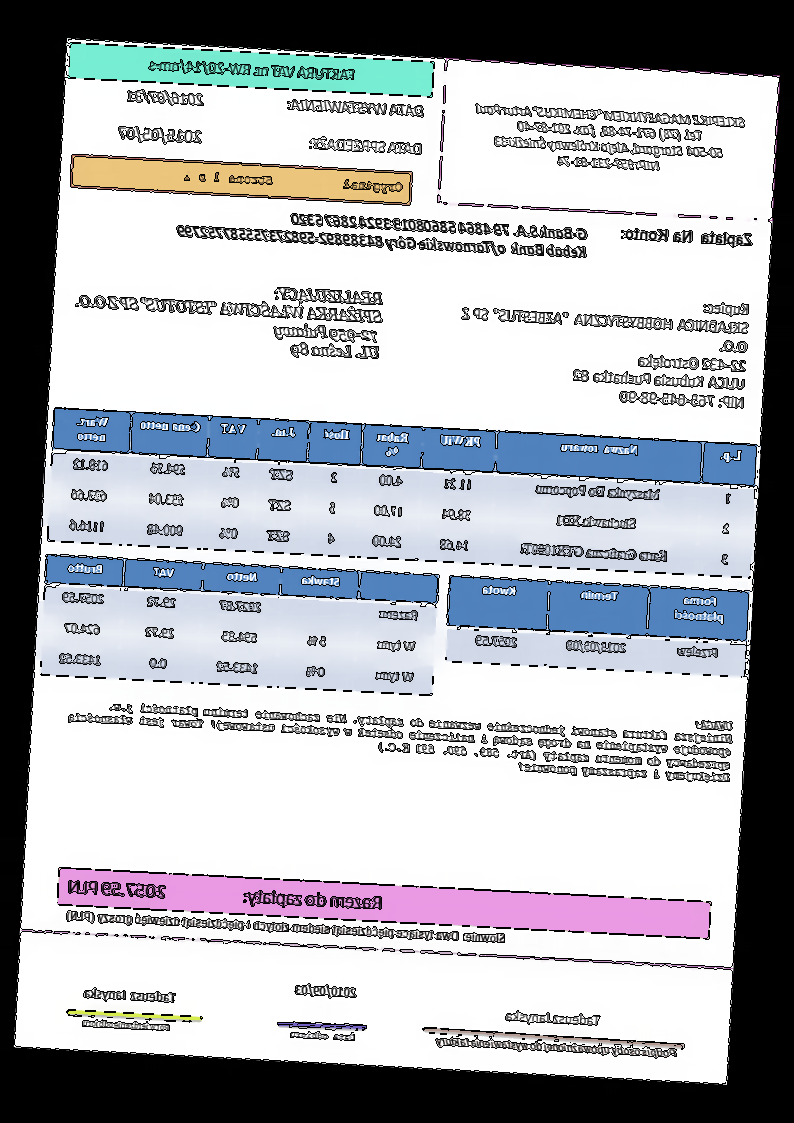Table: (46, 406, 759, 580), (39, 553, 441, 697), (444, 574, 752, 679)
TextBox: (62, 682, 735, 786), (455, 285, 753, 411), (70, 273, 388, 365), (174, 202, 591, 262), (470, 96, 750, 180), (64, 906, 509, 948), (64, 873, 386, 914), (433, 1030, 681, 1062), (147, 51, 359, 87), (180, 166, 405, 197), (284, 93, 427, 120), (619, 223, 755, 249), (307, 131, 426, 160), (80, 982, 178, 1007), (114, 122, 206, 148), (503, 1006, 603, 1029), (125, 85, 208, 109), (80, 1017, 172, 1035), (293, 979, 360, 1001), (288, 1027, 358, 1045)
